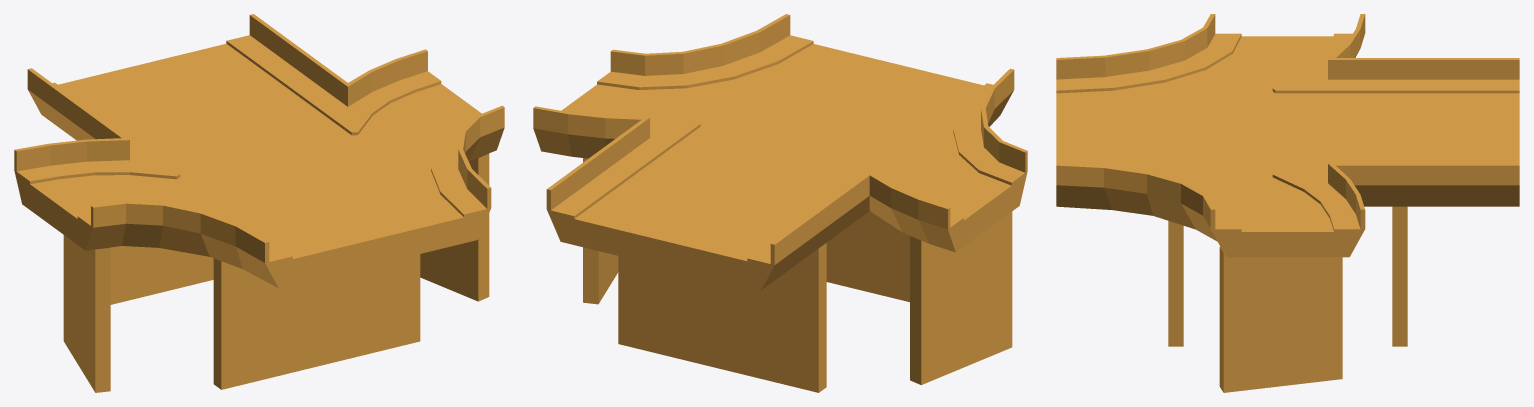
Rendered from bridge-mainroad-ramps.glb.
3 views of the same model, side by side, from view 1: azimuth 30°, elevation 25°; view 2: azimuth 150°, elevation 25°; view 3: azimuth 270°, elevation 25° (orthographic). The views are drawn at different scales.
Parts seen in each view (by area): view 1: bridge-mainroad-ramps; view 2: bridge-mainroad-ramps; view 3: bridge-mainroad-ramps.
Part boxes in pixels (box(x1,y1,x2,y2)): bridge-mainroad-ramps: box(14, 14, 504, 392); bridge-mainroad-ramps: box(533, 14, 1027, 392); bridge-mainroad-ramps: box(1056, 14, 1519, 392).
Bounding box in the file's own units: 30 × 13.4 × 30.
